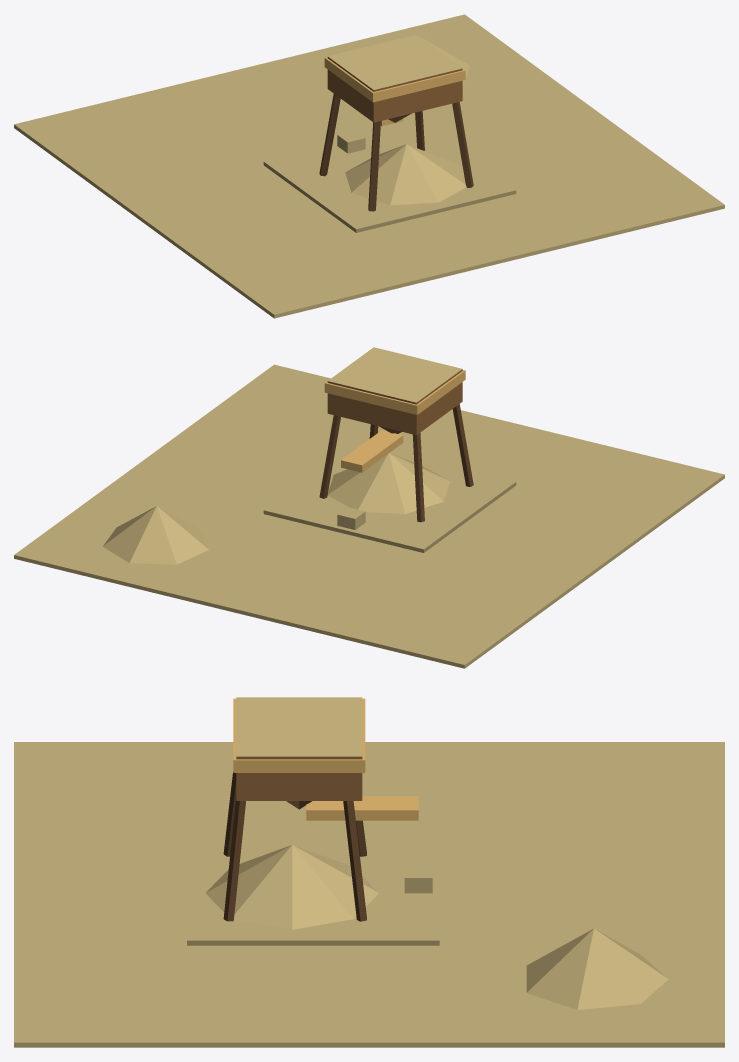
Rendered from sand_collector_1.glb.
3 views of the same model, one above another, from view 1: azimuth 30°, elevation 25°; view 2: azimuth 150°, elevation 25°; view 3: azimuth 270°, elevation 25° (orthographic). The views are drawn at different scales.
Parts seen in each view (by area): view 1: sand_collector_1; view 2: sand_collector_1; view 3: sand_collector_1.
Part boxes in pixels (x1,y1,x2,y2): sand_collector_1: (14,14,724,318); sand_collector_1: (14,347,724,668); sand_collector_1: (14,697,724,1047).
Size of the model in its own units: 3.8 by 1 by 3.8.
